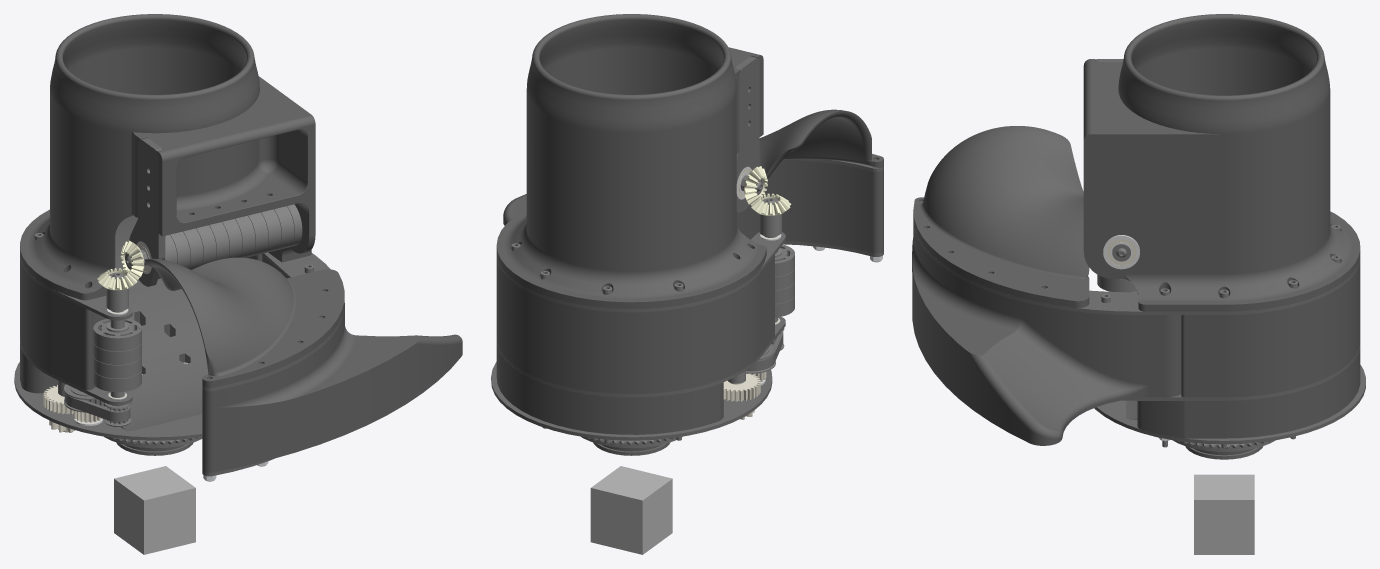
3 views of the same model, side by side, from view 1: azimuth 30°, elevation 25°; view 2: azimuth 150°, elevation 25°; view 3: azimuth 270°, elevation 25° (orthographic).
Visible parts, largest first — view 1: Part 17, Part 14, Part 23, Part 16, Part 15, Part 1 (×9), Origin Cube, Part 18, Part 13, Part 12, WCP-2141 Rev1 (×2), Part 11 (+2 smaller); view 2: Part 17, Part 15, Part 14, Part 16, Origin Cube, Part 23, Part 13, Part 18, Part 12, Part 11, WCP-2141 Rev1 (×2), 30t Aluminum Spur Gear (20 DP, 3/8" Hex Bore) (+2 smaller); view 3: Part 17, Part 14, Part 23, Part 15, Part 16, Origin Cube, Part 12, Part 13, Part 11, 1/2" Rounded Hex (13.75mm) ID Bearing (1.125" OD, 0.313" WD,, 56t Aluminum Billet Sprocket (#25, MAXSpline Bore).
Part boxes in pixels (x1,y1,x2,y2): Part 17: [20, 14, 315, 300]; Part 14: [202, 255, 462, 472]; Part 23: [144, 257, 344, 387]; Part 16: [20, 215, 208, 430]; Part 15: [20, 254, 261, 390]; Part 1 (×9): [93, 206, 294, 392]; Origin Cube: [114, 466, 195, 554]; Part 18: [129, 138, 165, 286]; Part 13: [14, 362, 202, 440]; Part 12: [20, 252, 344, 391]; WCP-2141 Rev1 (×2): [97, 240, 144, 290]; Part 11: [20, 337, 273, 476]; Part 17: [496, 14, 766, 308]; Part 15: [496, 255, 774, 393]; Part 14: [503, 159, 883, 253]; Part 16: [496, 341, 723, 434]; Origin Cube: [590, 466, 672, 554]; Part 23: [759, 109, 883, 178]; Part 13: [491, 362, 772, 440]; Part 18: [735, 56, 759, 212]; Part 12: [496, 159, 883, 312]; Part 11: [496, 241, 883, 397]; WCP-2141 Rev1 (×2): [744, 166, 791, 215]; 30t Aluminum Spur Gear (20 DP, 3/8" Hex Bore): [723, 373, 760, 401]; Part 17: [1083, 14, 1360, 311]; Part 14: [912, 221, 1181, 445]; Part 23: [913, 126, 1089, 307]; Part 15: [1181, 261, 1360, 397]; Part 16: [1126, 346, 1360, 438]; Origin Cube: [1194, 474, 1254, 554]; Part 12: [913, 218, 1360, 314]; Part 13: [1094, 365, 1365, 444]; Part 11: [1122, 290, 1360, 400]; 1/2" Rounded Hex (13.75mm) ID Bearing (1.125" OD, 0.313" WD,: [1103, 235, 1139, 269]; 56t Aluminum Billet Sprocket (#25, MAXSpline Bore): [1173, 440, 1275, 451].
Bounding box in the file's own units: 0.3298 × 0.4508 × 0.3808.
